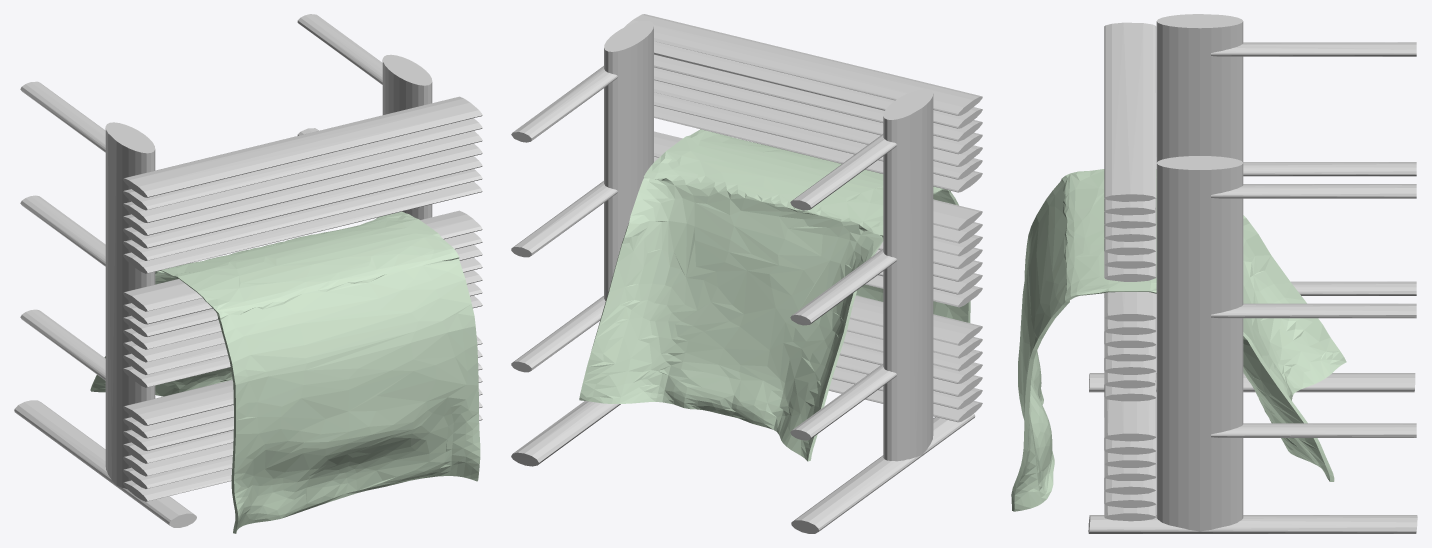
The model's file is sh-bsby-bathroom-radiator.glb.
The picture shows the model from 3 angles, left to right: view 1: azimuth 30°, elevation 25°; view 2: azimuth 150°, elevation 25°; view 3: azimuth 270°, elevation 25°; orthographic projection. The views are drawn at different scales.
Parts seen in each view (by area): view 1: polotencesushitel.001, polotence_polot; view 2: polotencesushitel.001, polotence_polot; view 3: polotencesushitel.001, polotence_polot.
Part boxes in pixels (x1=…): polotencesushitel.001: x1=14, y1=14, x2=482, y2=527; polotence_polot: x1=90, y1=211, x2=480, y2=533; polotencesushitel.001: x1=511, y1=14, x2=982, y2=533; polotence_polot: x1=579, y1=129, x2=970, y2=461; polotencesushitel.001: x1=1088, y1=14, x2=1417, y2=533; polotence_polot: x1=1011, y1=169, x2=1346, y2=511.
Bounding box in the file's own units: 1 × 1 × 0.9998.
